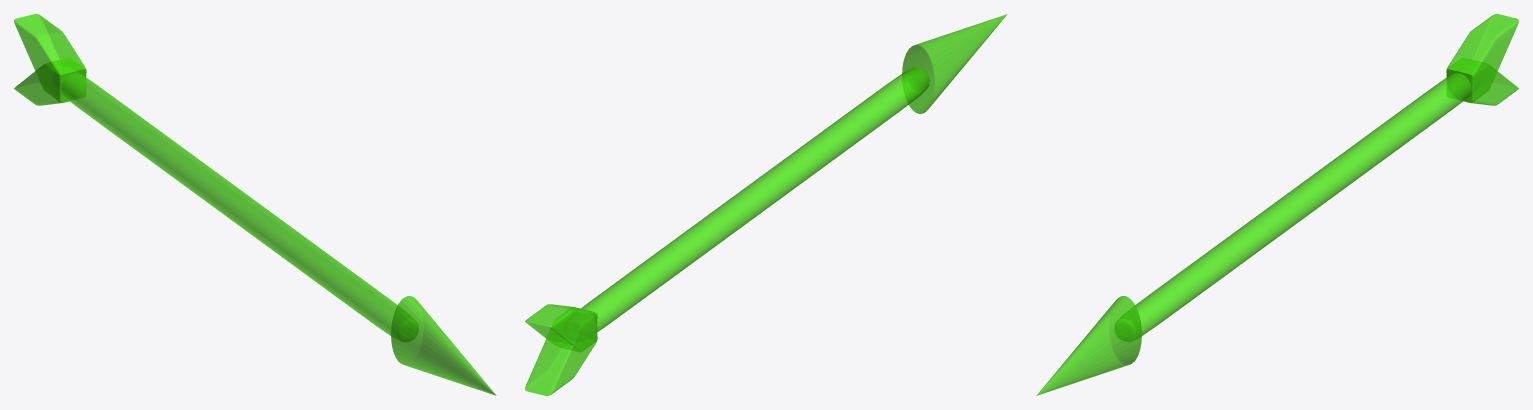
3 renders of one model, left to right at view 1: azimuth 30°, elevation 25°; view 2: azimuth 150°, elevation 25°; view 3: azimuth 330°, elevation 25°, orthographic.
Parts seen in each view (by area): view 1: Cube, 立方体, 円錐; view 2: Cube, 立方体, 円錐; view 3: Cube, 立方体, 円錐.
Part boxes in pixels (x1=…): Cube: x1=53, y1=67, x2=418, y2=342; 立方体: x1=14, y1=14, x2=86, y2=105; 円錐: x1=391, y1=296, x2=496, y2=395; Cube: x1=564, y1=67, x2=929, y2=342; 立方体: x1=525, y1=304, x2=597, y2=395; 円錐: x1=902, y1=14, x2=1007, y2=113; Cube: x1=1114, y1=67, x2=1479, y2=342; 立方体: x1=1446, y1=14, x2=1518, y2=105; 円錐: x1=1036, y1=296, x2=1141, y2=395.
Size of the model in its own units: 7.22 by 14.58 by 179.
